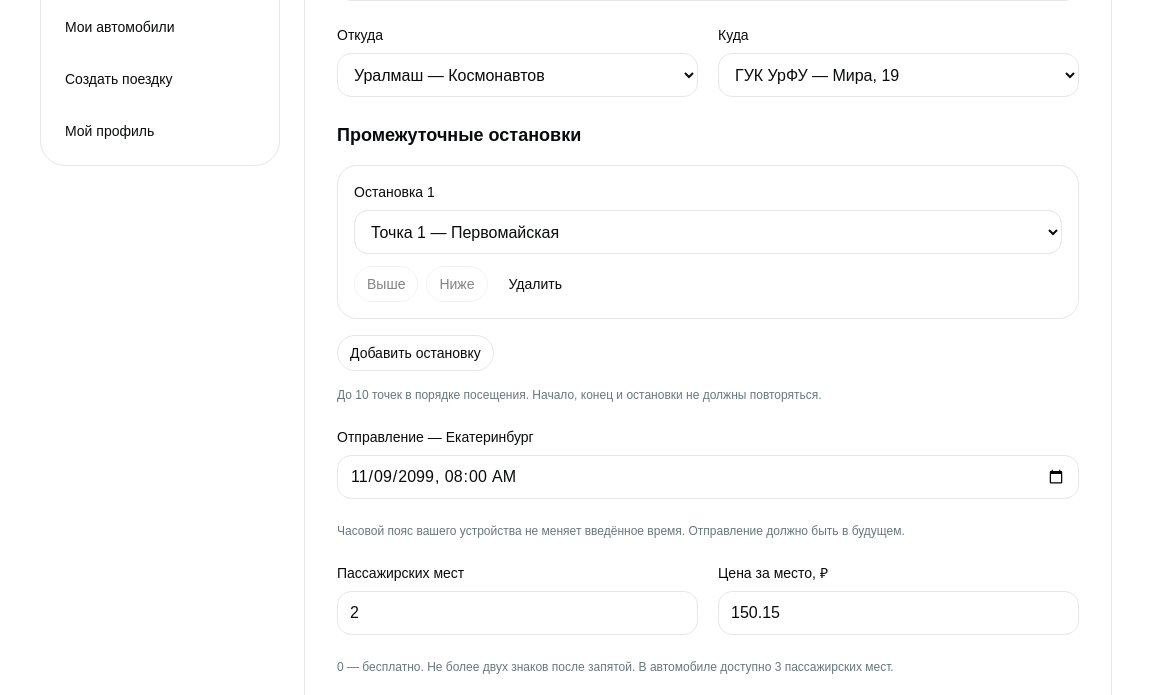
Scenario: Форма поездки › загружает черновик, сохраняет флаги и позволяет изменить порядок остановок
(page scrolled)
Expected: the field labelled "Цена за место, ₽" holds "150.15", [718,591,1079,635]
Click the button "Добавить остановку" at point(415, 353), box [337,335,494,371]
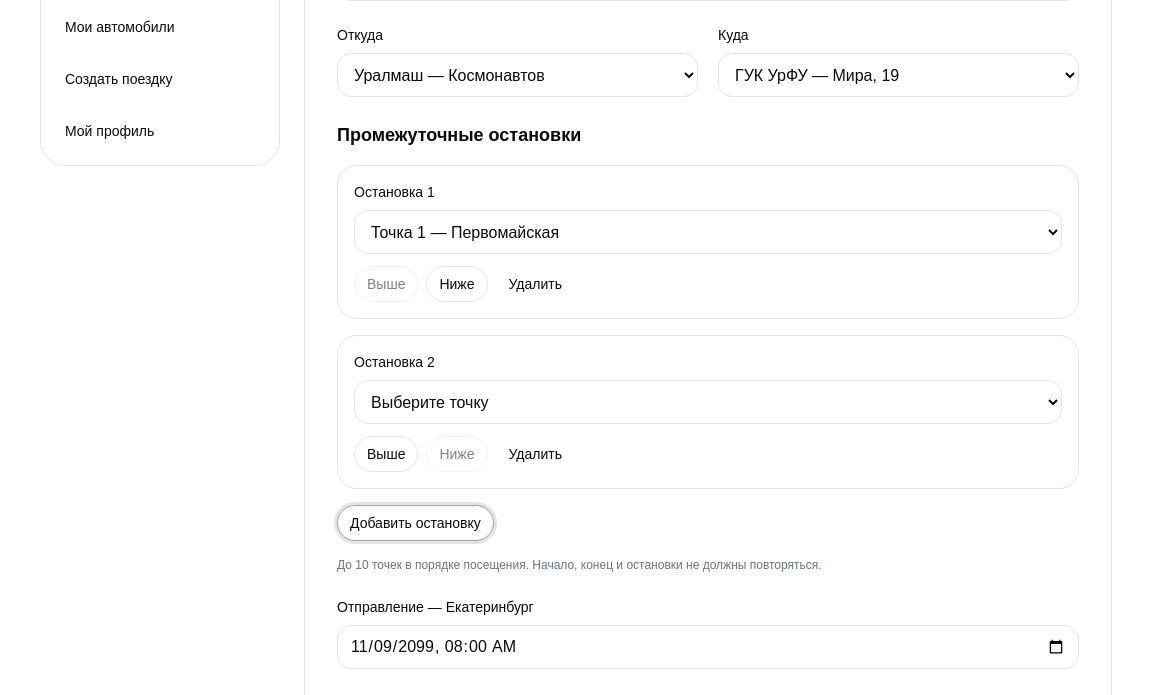
Select "Точка 2 — Мира" in the dropdown labelled "Остановка 2" at point(708, 402), box [354,380,1062,424]
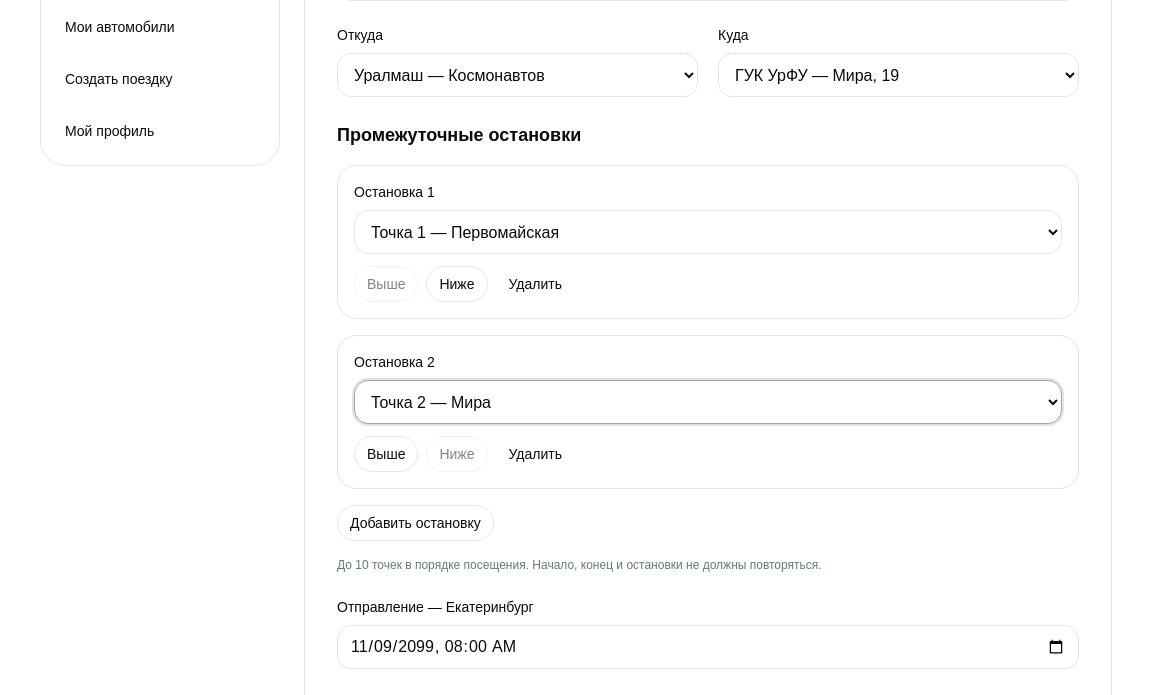
Click the button with aria-label "Поднять остановку 2" at point(386, 454), box [354,436,418,472]
(page scrolled)
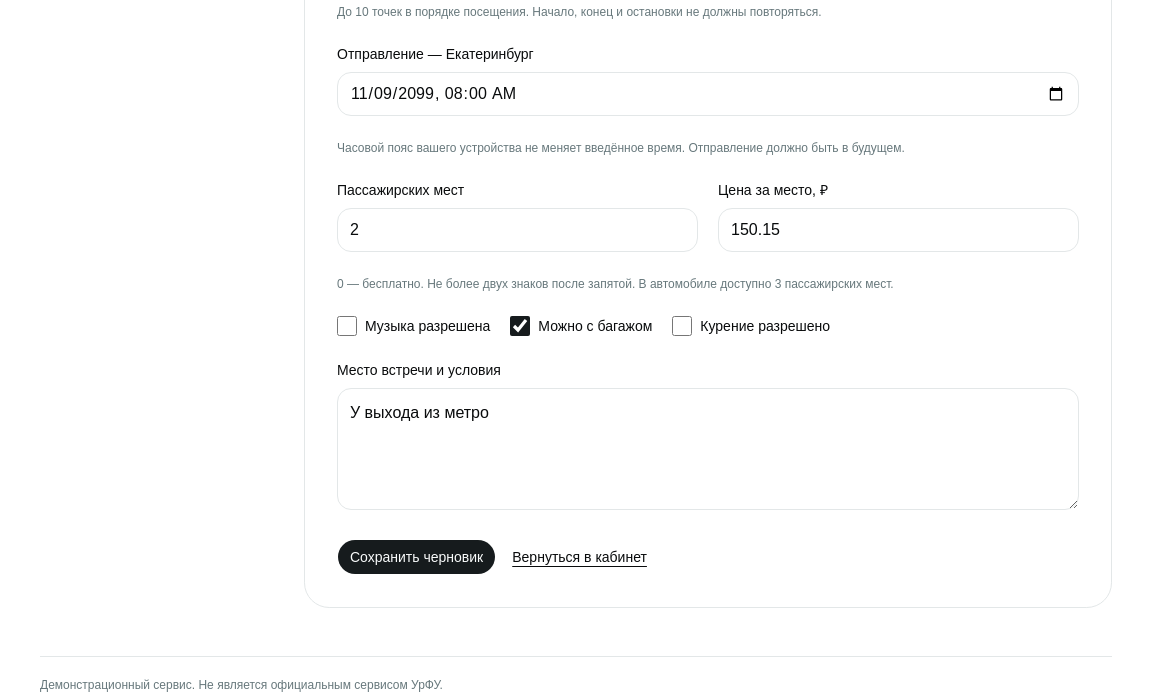
Click the button "Сохранить черновик" at point(417, 557), box [337,539,496,575]
(page scrolled)
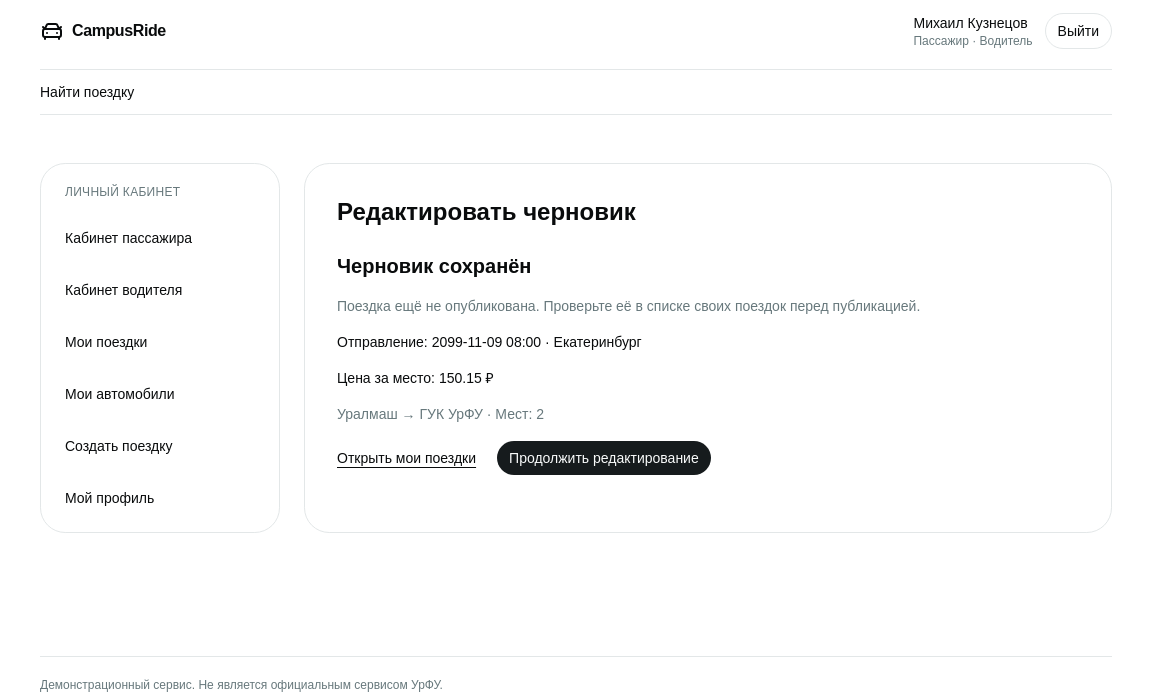
Expected: the text "Черновик сохранён" is shown, [337,255,531,277]
